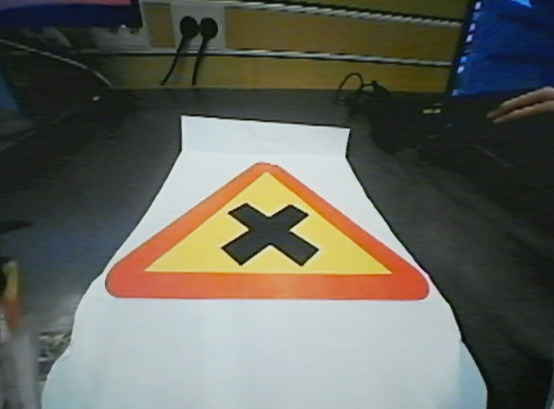junction: (99, 161, 434, 298)
